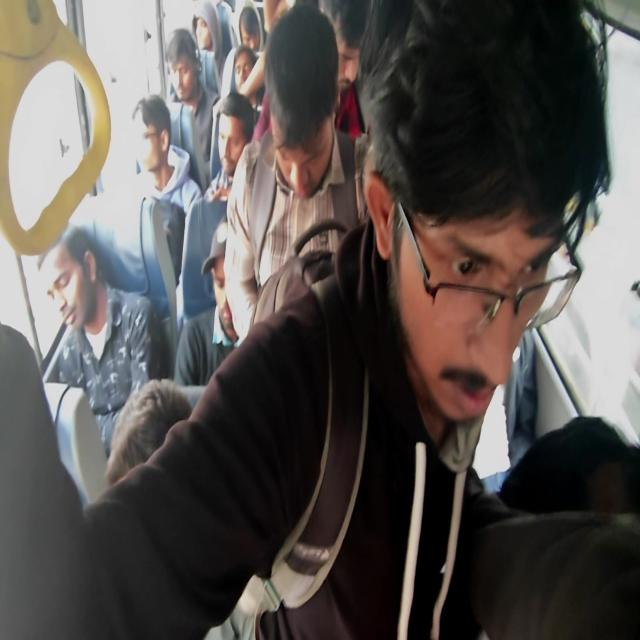person: (1, 0, 612, 638), (222, 3, 370, 348), (39, 224, 163, 458), (93, 94, 203, 311), (173, 216, 238, 387), (104, 377, 193, 488), (132, 93, 202, 215), (165, 28, 219, 160), (202, 91, 255, 202)
